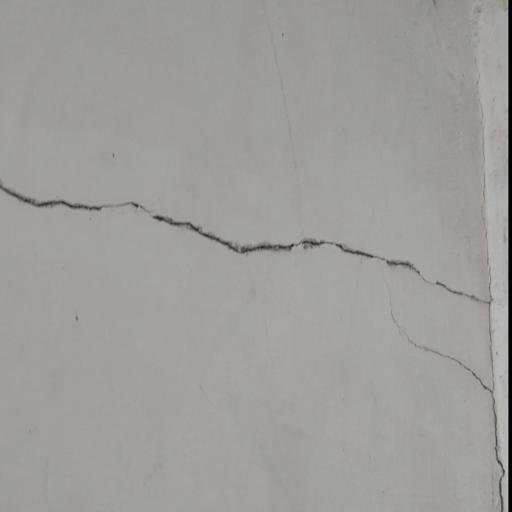major_crack: (0, 158, 507, 512)
